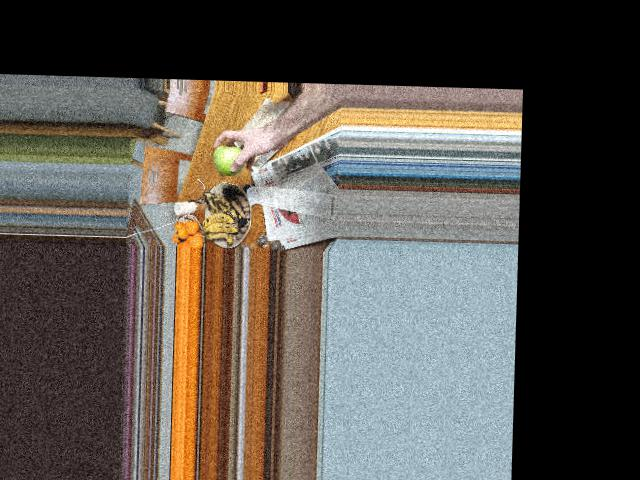apple: (211, 144, 248, 174)
